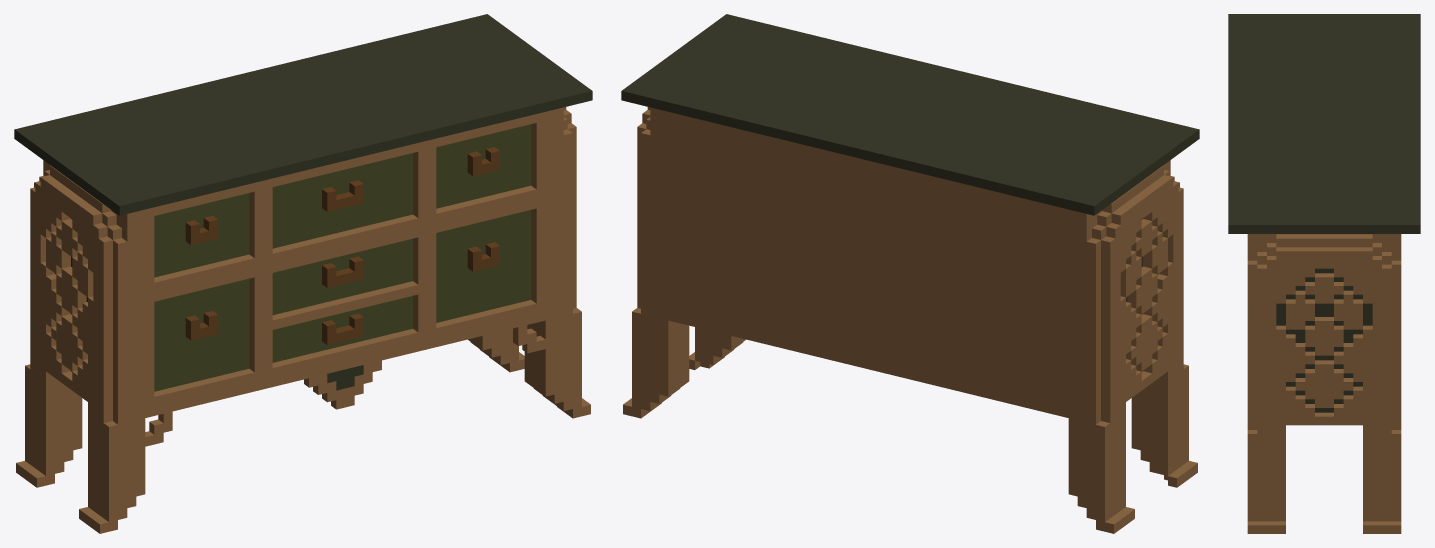
The model's file is Commode.obj.
3 views of the same model, side by side, from view 1: azimuth 30°, elevation 25°; view 2: azimuth 150°, elevation 25°; view 3: azimuth 270°, elevation 25° (orthographic). The views are drawn at different scales.
Parts seen in each view (by area): view 1: Commode; view 2: Commode; view 3: Commode.
Part boxes in pixels (x1,y1,x2,y2): Commode: (14, 14, 592, 533); Commode: (621, 14, 1199, 533); Commode: (1228, 14, 1420, 533).
Bounding box in the file's own units: 54 × 35 × 20.
1 material, 1 textured.
